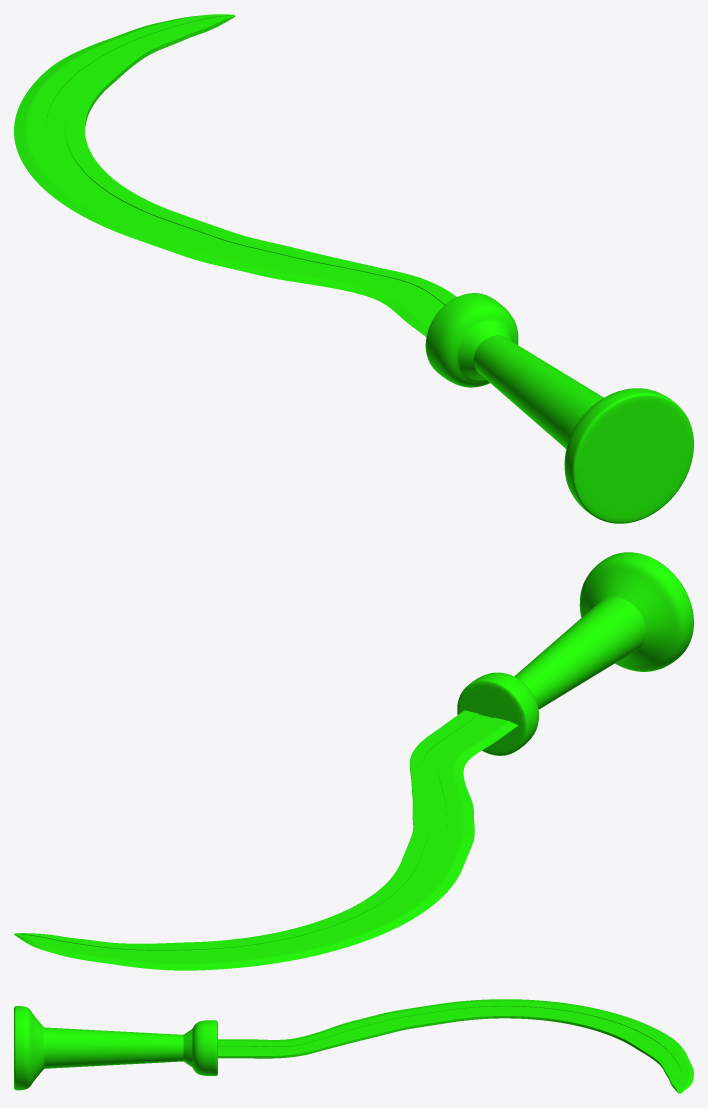
3 renders of one model, top to bottom at view 1: azimuth 30°, elevation 25°; view 2: azimuth 150°, elevation 25°; view 3: azimuth 270°, elevation 25°, orthographic. The views are drawn at different scales.
Visible parts, largest first — view 1: polySurface4; view 2: polySurface4; view 3: polySurface4.
Boxes of the visible parts, x1=… form: polySurface4: x1=14, y1=14, x2=693, y2=523; polySurface4: x1=14, y1=552, x2=693, y2=970; polySurface4: x1=14, y1=999, x2=693, y2=1093.
Size of the model in its own units: 0.6574 by 0.2475 by 2.
